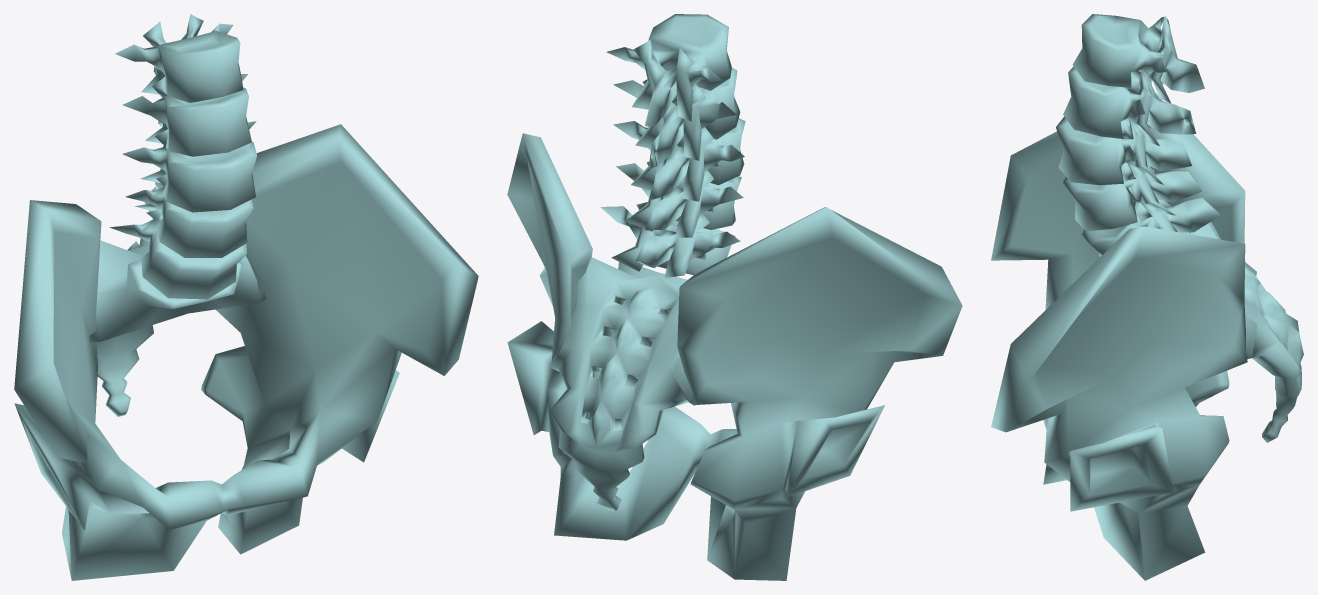
Rendered from skelly_pelvis.fbx.
3 views of the same model, side by side, from view 1: azimuth 30°, elevation 25°; view 2: azimuth 150°, elevation 25°; view 3: azimuth 270°, elevation 25° (orthographic). The views are drawn at different scales.
Parts seen in each view (by area): view 1: skelly_pelvis; view 2: skelly_pelvis; view 3: skelly_pelvis.
Part boxes in pixels (x1,y1,x2,y2): skelly_pelvis: (14, 14, 478, 580); skelly_pelvis: (507, 14, 962, 580); skelly_pelvis: (991, 14, 1303, 580).
Bounding box in the file's own units: 30.64 × 33.28 × 18.68.
